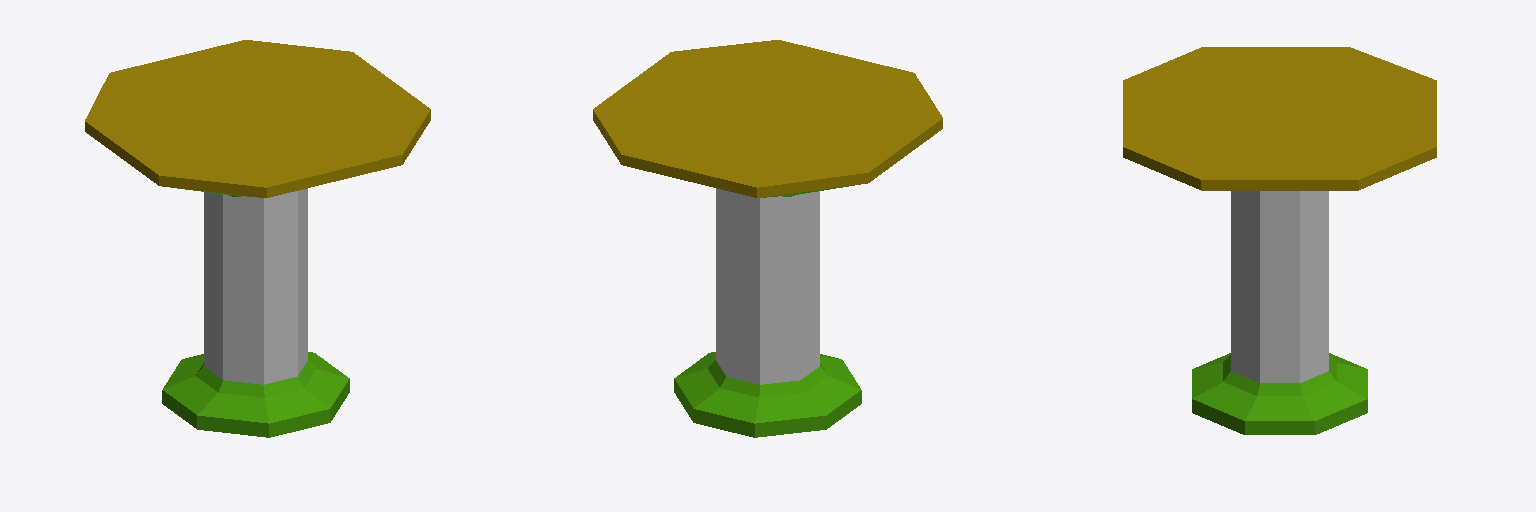
Rendered from imps_pedestal.obj.
The picture shows the model from 3 angles: view 1: azimuth 30°, elevation 25°; view 2: azimuth 150°, elevation 25°; view 3: azimuth 270°, elevation 25°; orthographic projection.
Visible parts, largest first — view 1: Pedestal_Cube; view 2: Pedestal_Cube; view 3: Pedestal_Cube.
Boxes of the visible parts, <box> form: Pedestal_Cube: <box>85,40,430,437</box>; Pedestal_Cube: <box>593,40,942,437</box>; Pedestal_Cube: <box>1123,47,1436,434</box>.
Bounding box in the file's own units: 1 × 1 × 1.